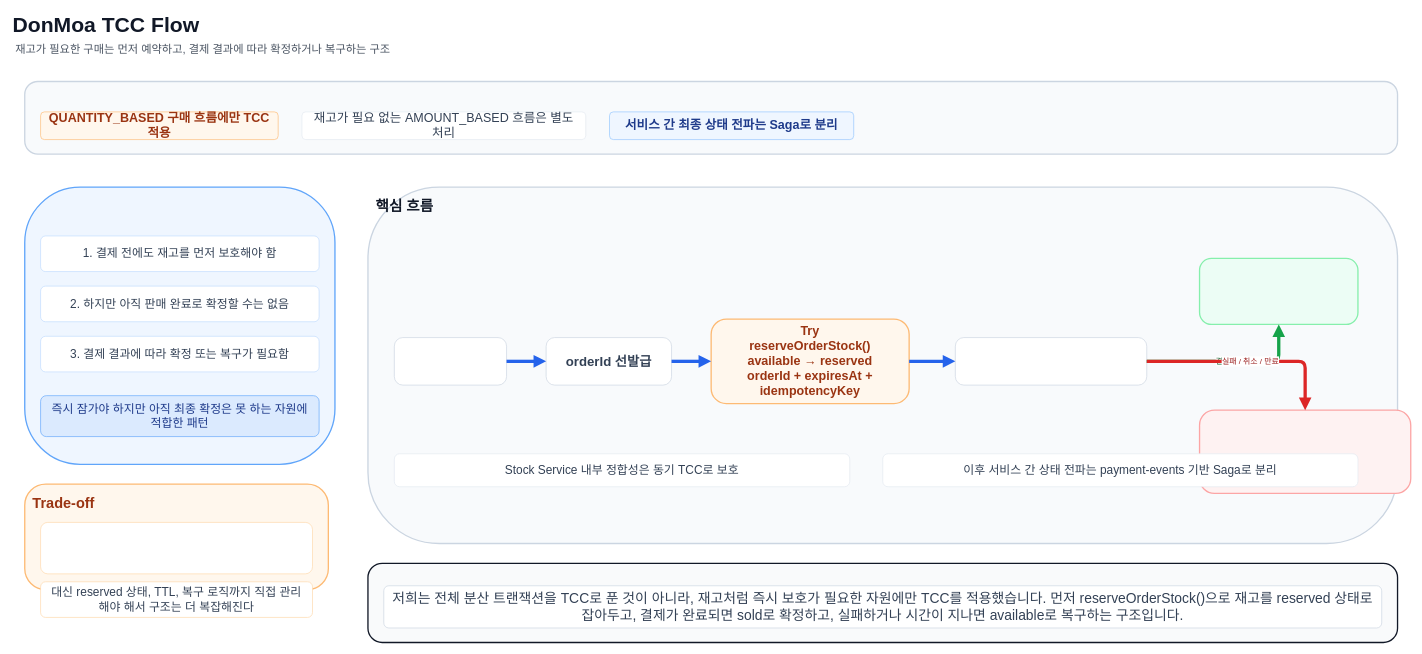
Image size: 1422x654. Some labels were removed from this diagram. The box of each missing label's shape, as (x1, y1, x2, y2) in pixels:
Cancel / Expire FAILED / CANCELLED / TIMED_OUT 또는 TTL 만료 reserved → available: (1199, 409, 1411, 494)
Confirm PAYMENT_COMPLETED reserved → sold: (1199, 257, 1358, 325)
구매 저장 / 주문 생성 / 결제 진행: (955, 337, 1147, 385)
발표 멘트 예시: (367, 562, 1398, 643)
상품 검증: (394, 337, 507, 385)
왜 TCC가 필요한가: (24, 186, 335, 465)
장점 초과 판매를 줄일 수 있다 결제 전에도 재고를 먼저 보호할 수 있다: (40, 522, 313, 574)
적용 범위: (24, 81, 1398, 154)
